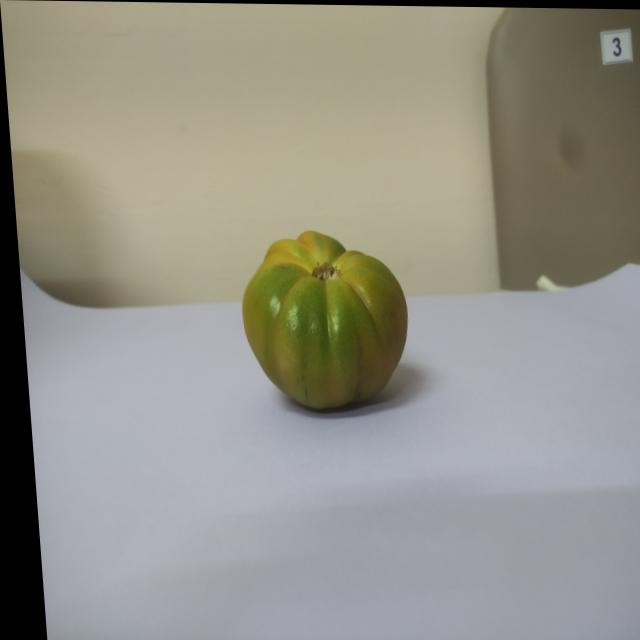yesil: (229, 198, 408, 421)
